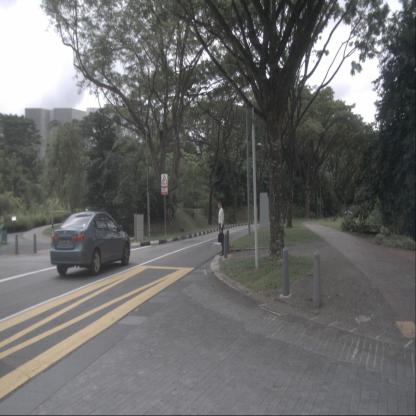human-pedestrian-adult: (218, 200, 224, 257)
vehicle-car: (50, 210, 131, 276)
